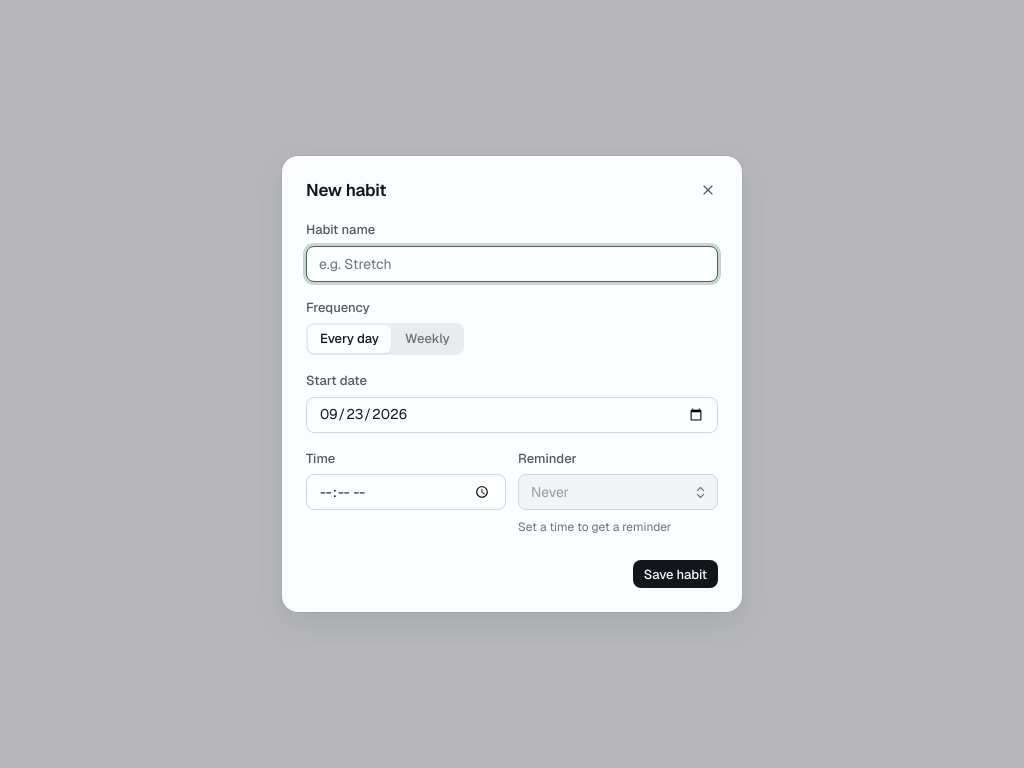
HabitDialog › shows "Times per week" only when frequency is Weekly
The image size is (1024, 768).
expect the field labelled "Times per week" is not shown: met
Click the tab "Weekly" at [427, 339], box x1=393 y1=325 x2=462 y2=353
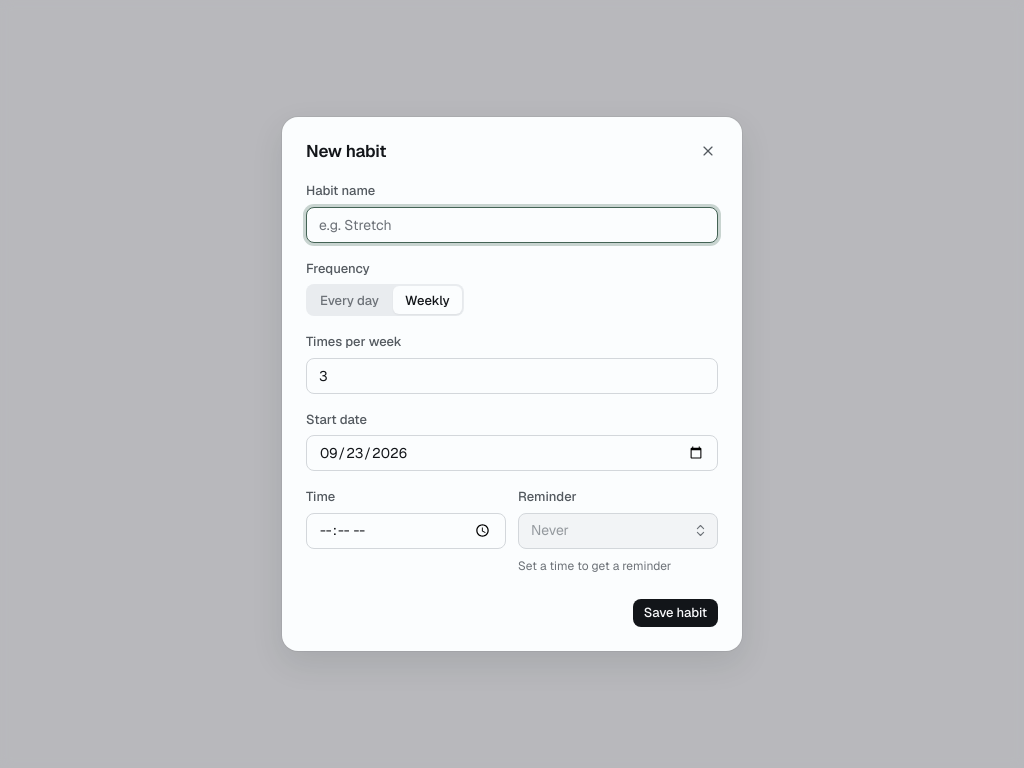
expect the number field labelled "Times per week" is shown: met, box x1=306 y1=358 x2=718 y2=394
